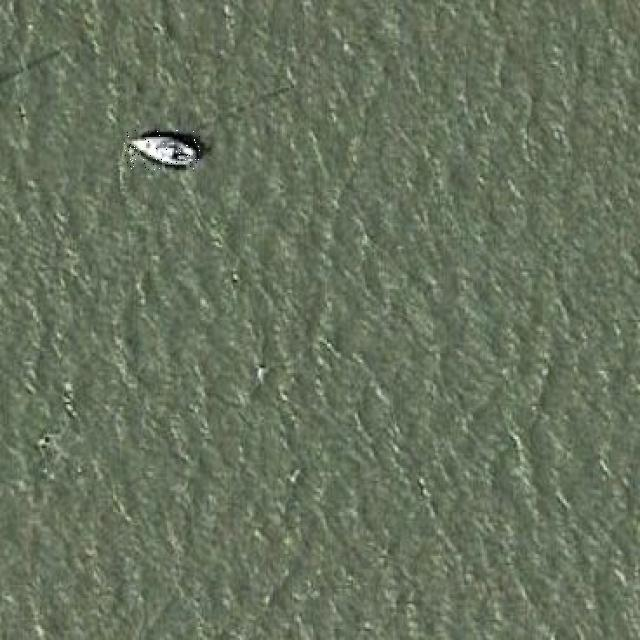boat: (123, 130, 200, 170)
